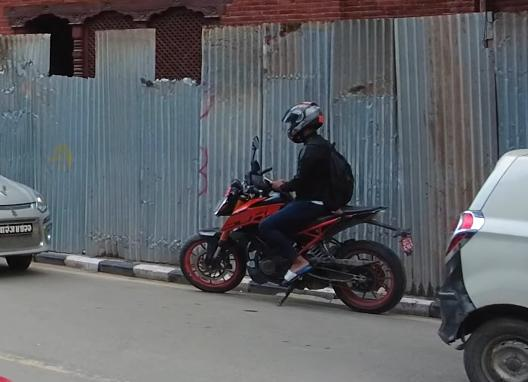bike: (177, 133, 417, 313)
